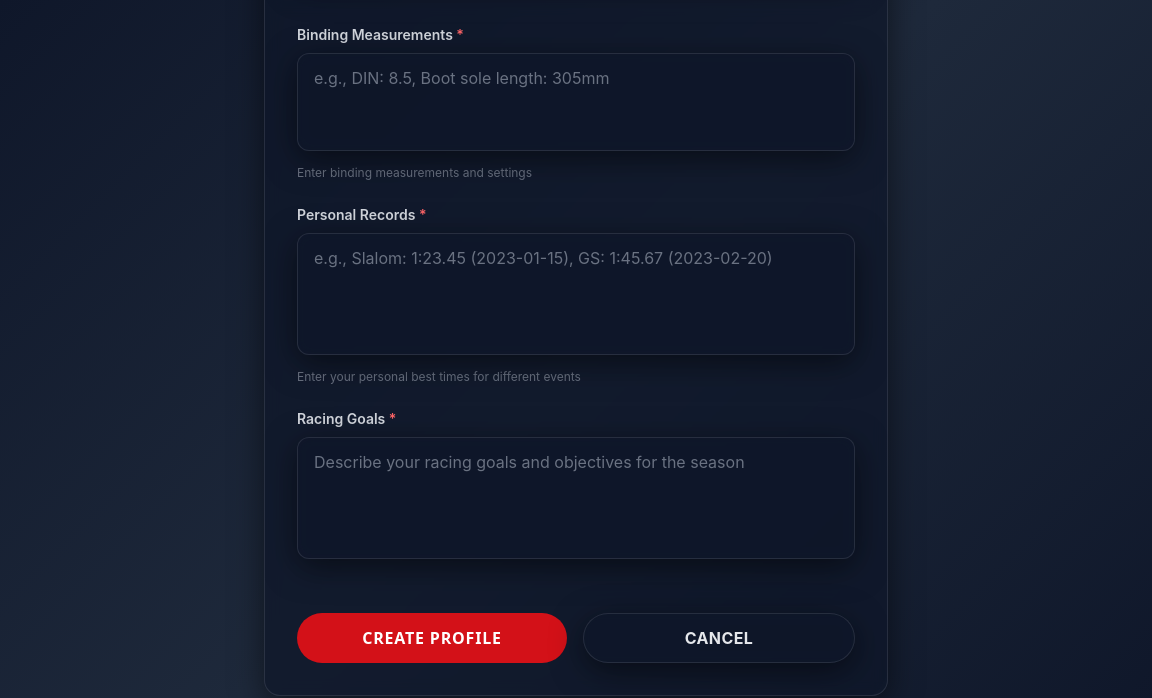
ProfileForm › Validation › should show error when height is empty
(page scrolled)
Click the button "Create Profile" at (432, 638), box [297,613,567,663]
(page scrolled)
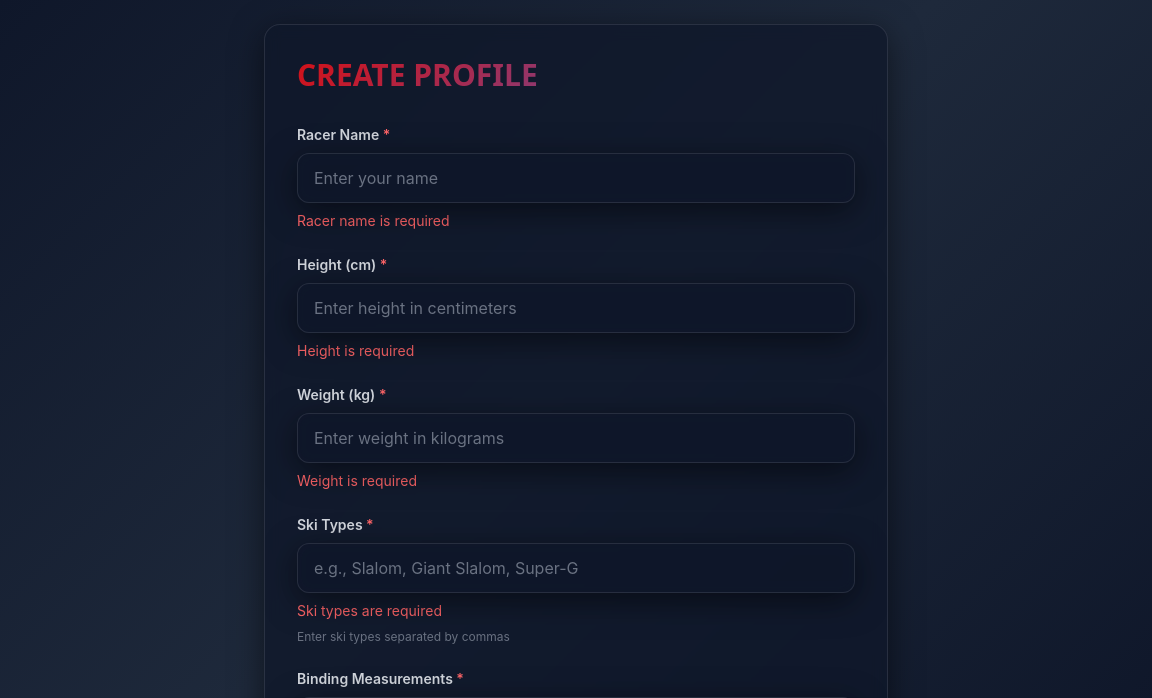
Expected: the text "Height is required" is shown, [297,342,414,359]
